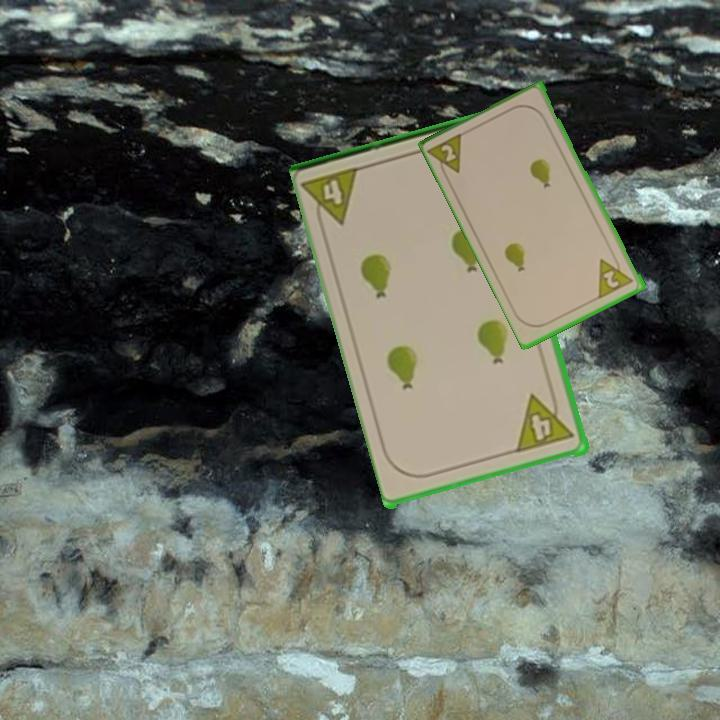2p: (426, 129, 467, 183), (600, 267, 623, 291)
4p: (301, 163, 365, 234), (513, 387, 578, 455)
